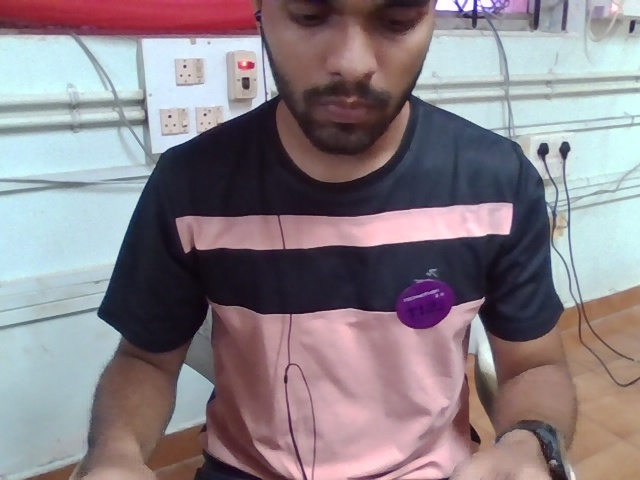my turn: (433, 429, 509, 480)
